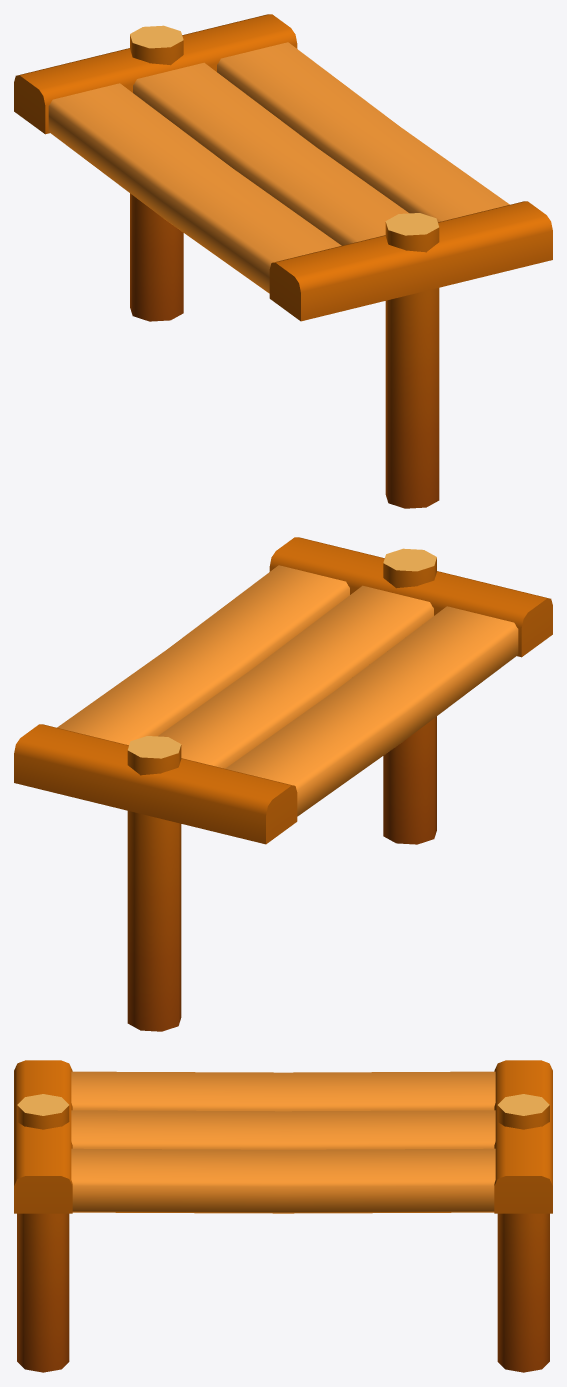
The model's file is Prop_Wooden_Bridge_01_B.fbx.
3 renders of one model, top to bottom at view 1: azimuth 30°, elevation 25°; view 2: azimuth 150°, elevation 25°; view 3: azimuth 270°, elevation 25°, orthographic. The views are drawn at different scales.
Parts seen in each view (by area): view 1: Prop_Wooden_Bridge_01_B; view 2: Prop_Wooden_Bridge_01_B; view 3: Prop_Wooden_Bridge_01_B.
Boxes of the visible parts, left/top/right/bottom form: Prop_Wooden_Bridge_01_B: left=14, top=14, right=552, bottom=508; Prop_Wooden_Bridge_01_B: left=14, top=537, right=552, bottom=1031; Prop_Wooden_Bridge_01_B: left=14, top=1060, right=552, bottom=1372.
Size of the model in its own units: 200 by 207 by 394.
